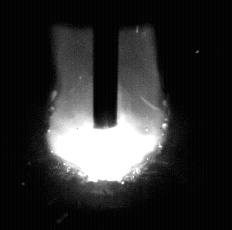arame: (94, 0, 119, 129)
poca: (46, 0, 167, 230)
